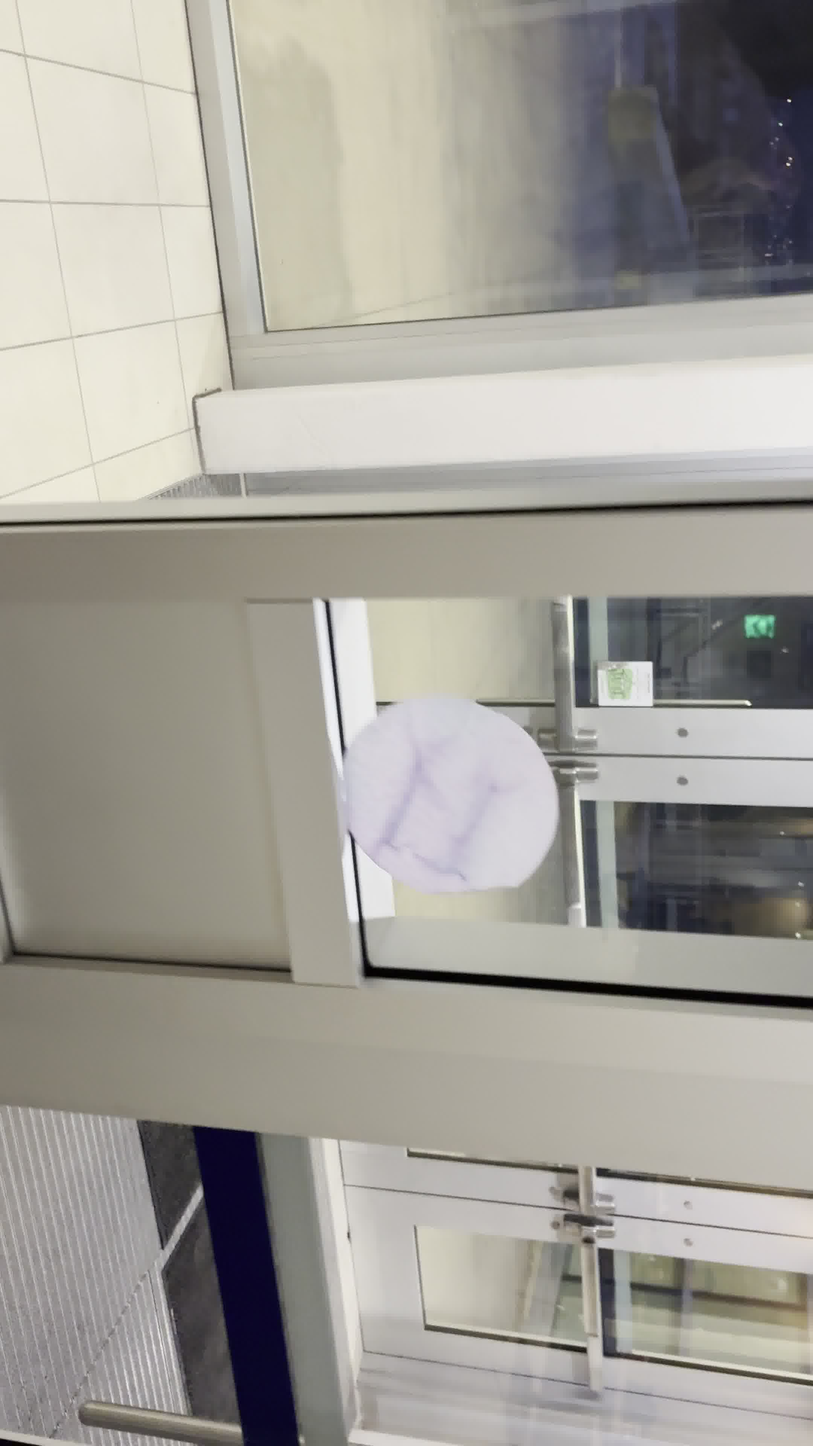Target: (328, 698, 558, 894)
